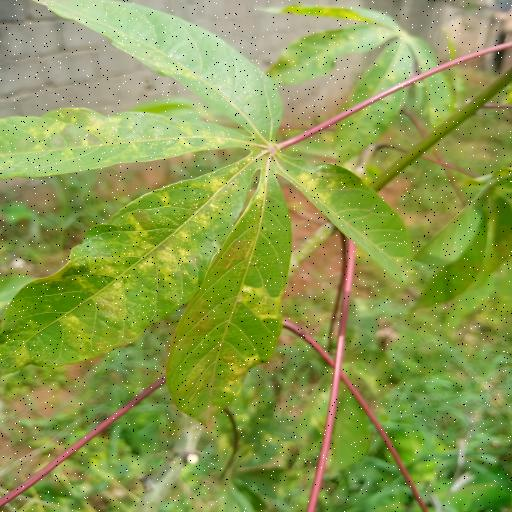Cassava_Mosaic: (0, 1, 440, 431), (258, 1, 466, 168)
